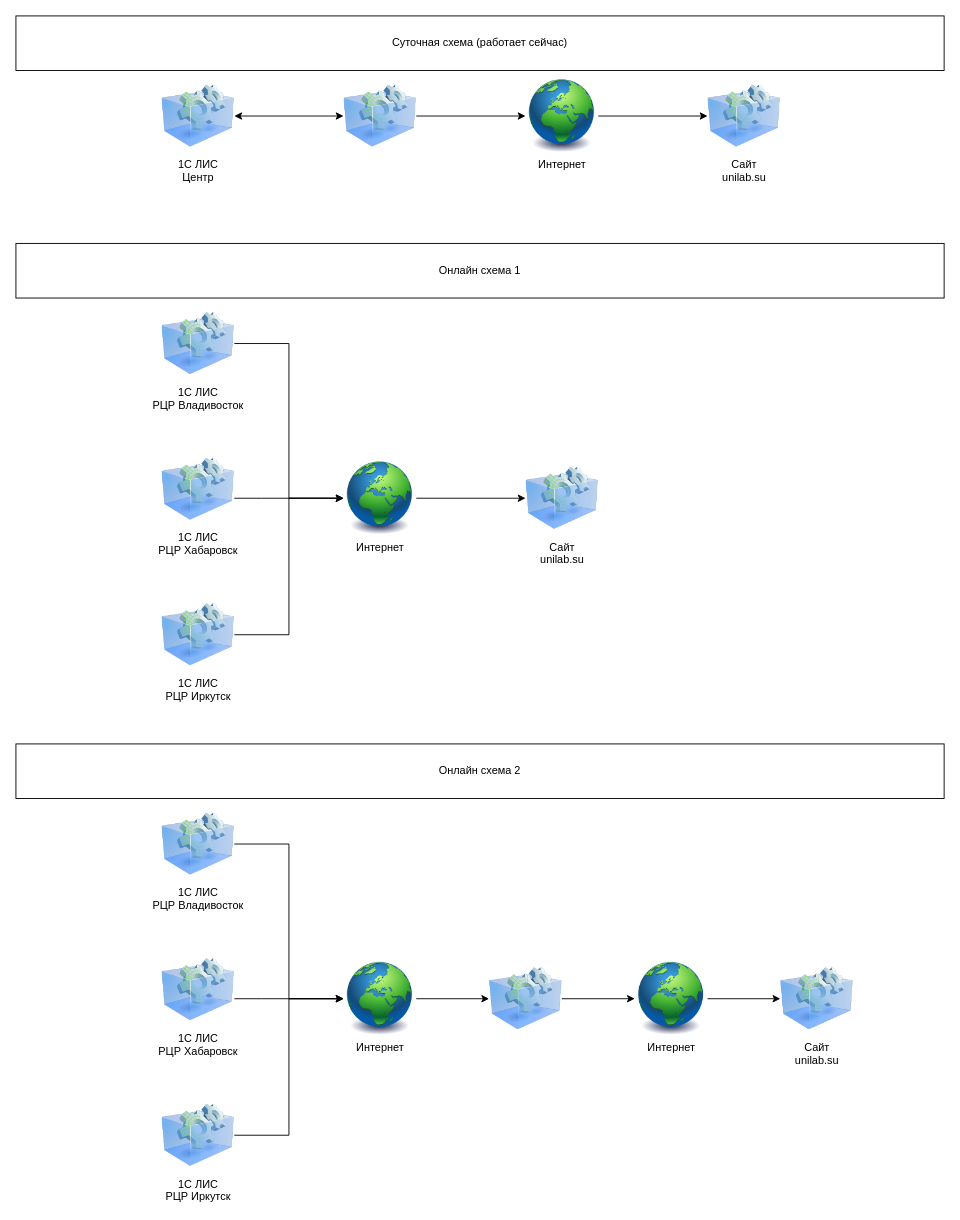
The diagram is 960 pixels wide and 1220 high, and some of its shapes have lost their labels. The shapes that lost their labels are listed below. From the top down, each one's centre as x and y in pixels, then its label:
At (x=379, y=115): "ETL сервис".
At (x=525, y=998): "МИС".
